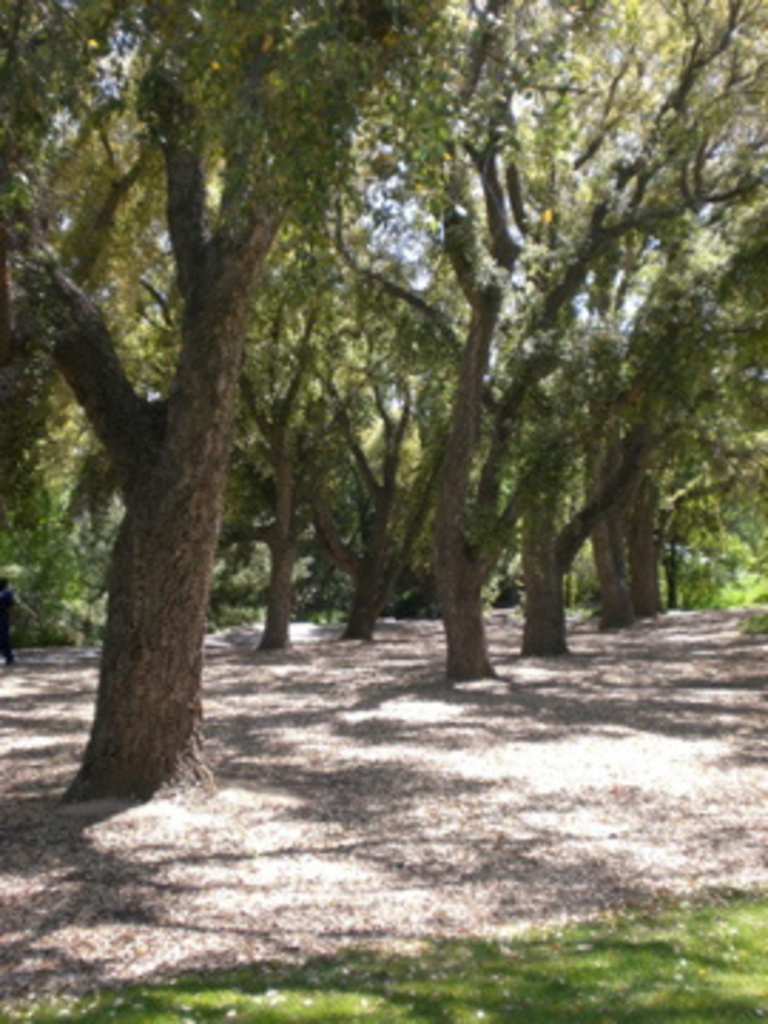Tree: (0, 0, 765, 830)
